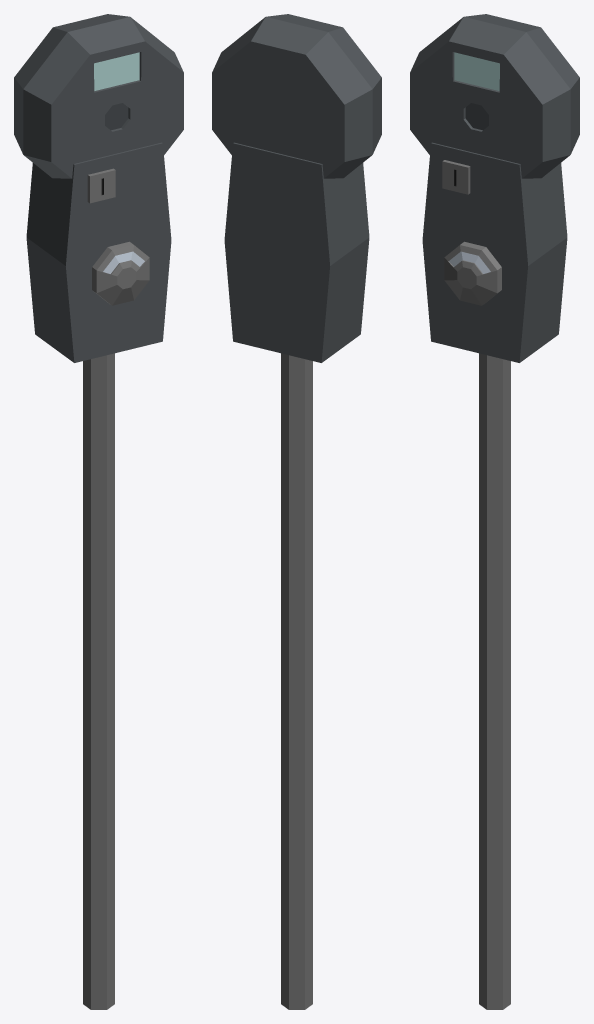
File: Parking_01.fbx
The picture shows the model from 3 angles, left to right: view 1: azimuth 30°, elevation 25°; view 2: azimuth 150°, elevation 25°; view 3: azimuth 330°, elevation 25°; orthographic projection.
Visible parts, largest first — view 1: Parking_01; view 2: Parking_01; view 3: Parking_01.
Boxes of the visible parts, x1,y1,x2,y2 form: Parking_01: (14,14,183,1009); Parking_01: (212,14,381,1009); Parking_01: (410,14,579,1009).
Bounding box in the file's own units: 20.21 × 125 × 11.02.
